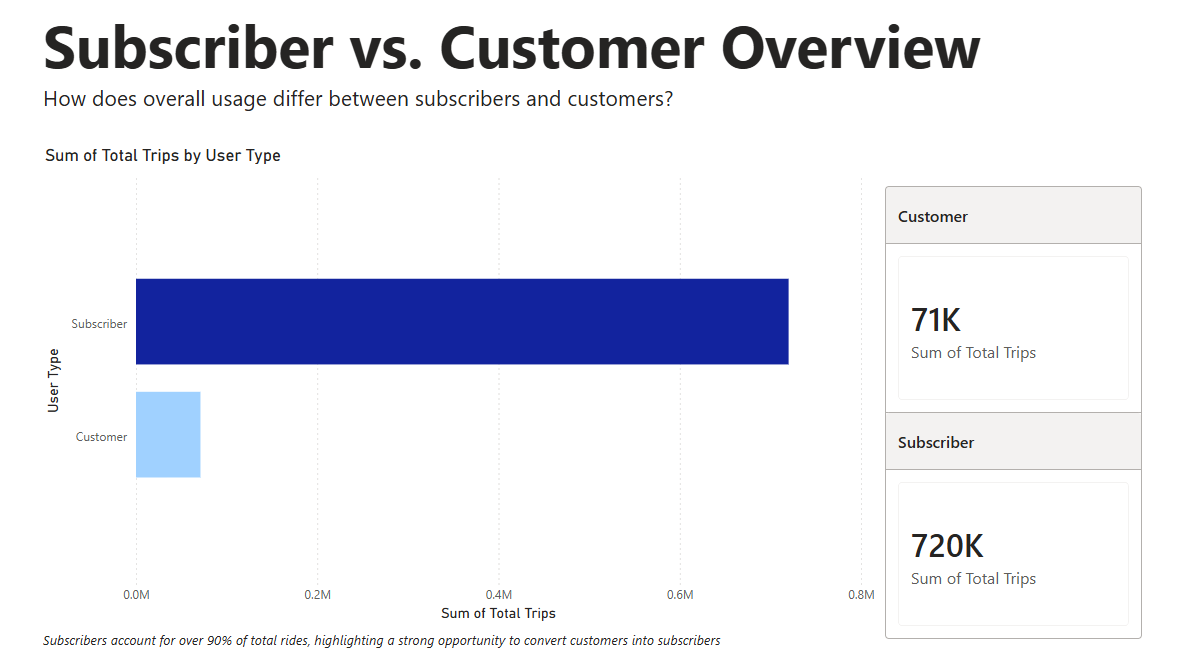

The dashboard page shown, as its layout file describes it:
{"tool":"powerbi","page":{"name":"Subscriber vs. Customer Overview","canvas":[1280,720],"ordinal":0},"visuals":[{"type":"barChart","fields":{"Category":["Total UserType CSV.User Type"],"Y":["Sum(Total UserType CSV.Total Trips)"]},"box":[43.8,200.4,840.4,480.5],"z":0},{"type":"cardVisual","fields":{"Rows":["Total UserType CSV.User Type"],"Data":["Sum(Total UserType CSV.Total Trips)"]},"box":[884.1,216.2,266.5,503.8],"z":1000},{"type":"textbox","box":[41.8,55.4,1202.2,128.4],"z":2000},{"type":"textbox","box":[41.8,680.9,758.7,38.9],"z":2001}]}

Visuals, with their boxes in screenshot pixels (x1, y1, x2, y2), scaled from the page's 1280x720 canvas onto the 1187x658 screenshot:
barChart - Total UserType CSV.User Type x Sum(Total UserType CSV.Total Trips): locate(41, 183, 820, 622)
cardVisual - Total UserType CSV.User Type x Sum(Total UserType CSV.Total Trips): locate(820, 198, 1067, 657)
textbox: locate(39, 51, 1154, 168)
textbox: locate(39, 622, 742, 657)
